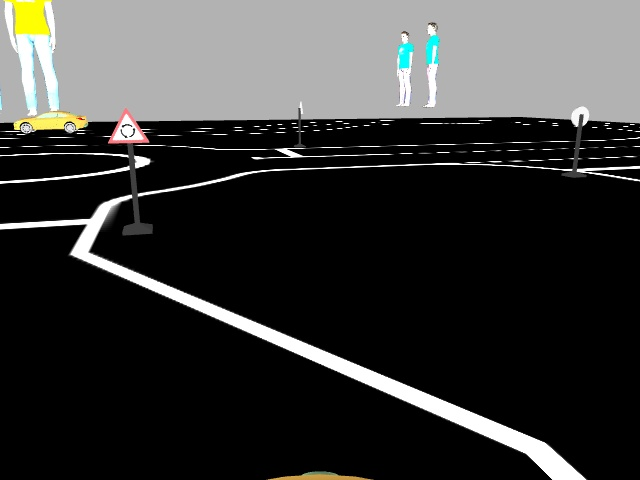Roundabout: (105, 106, 149, 143)
